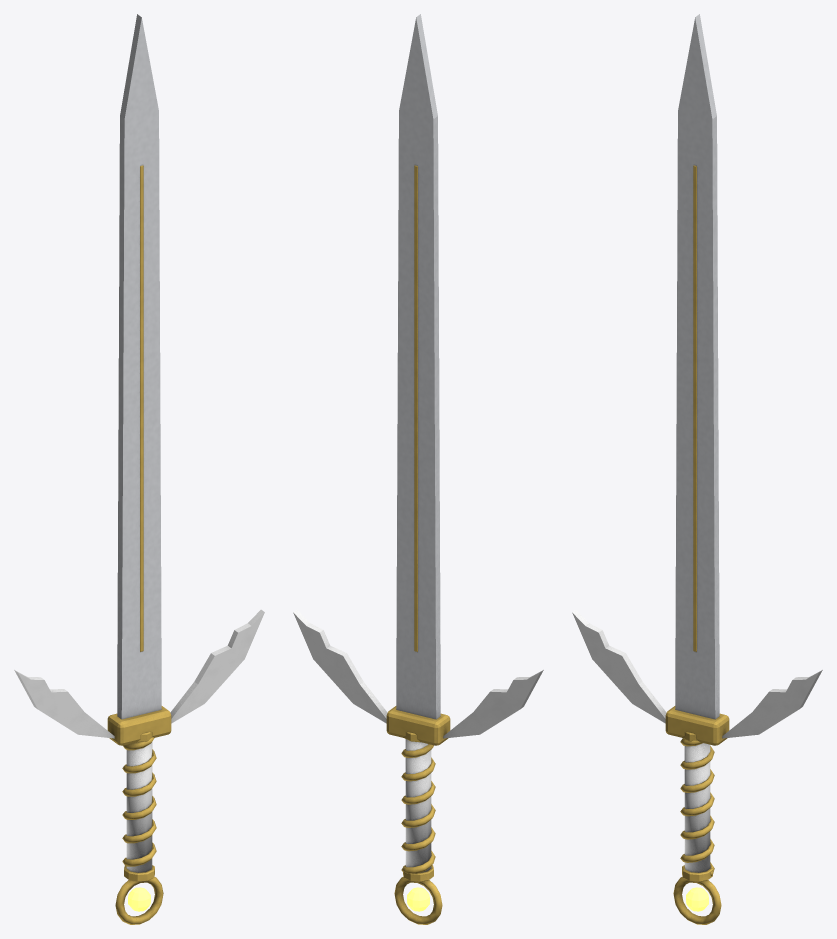
Rendered from 08_heaven_sword.fbx.
3 renders of one model, left to right at view 1: azimuth 30°, elevation 25°; view 2: azimuth 150°, elevation 25°; view 3: azimuth 330°, elevation 25°, orthographic.
Parts seen in each view (by area): view 1: Weapon; view 2: Weapon; view 3: Weapon.
Part boxes in pixels (bbox=[...]): Weapon: bbox=[14, 14, 264, 924]; Weapon: bbox=[293, 14, 543, 924]; Weapon: bbox=[572, 14, 822, 924].
Size of the model in its own units: 35.83 by 126 by 4.13.
2 materials, 1 textured.
